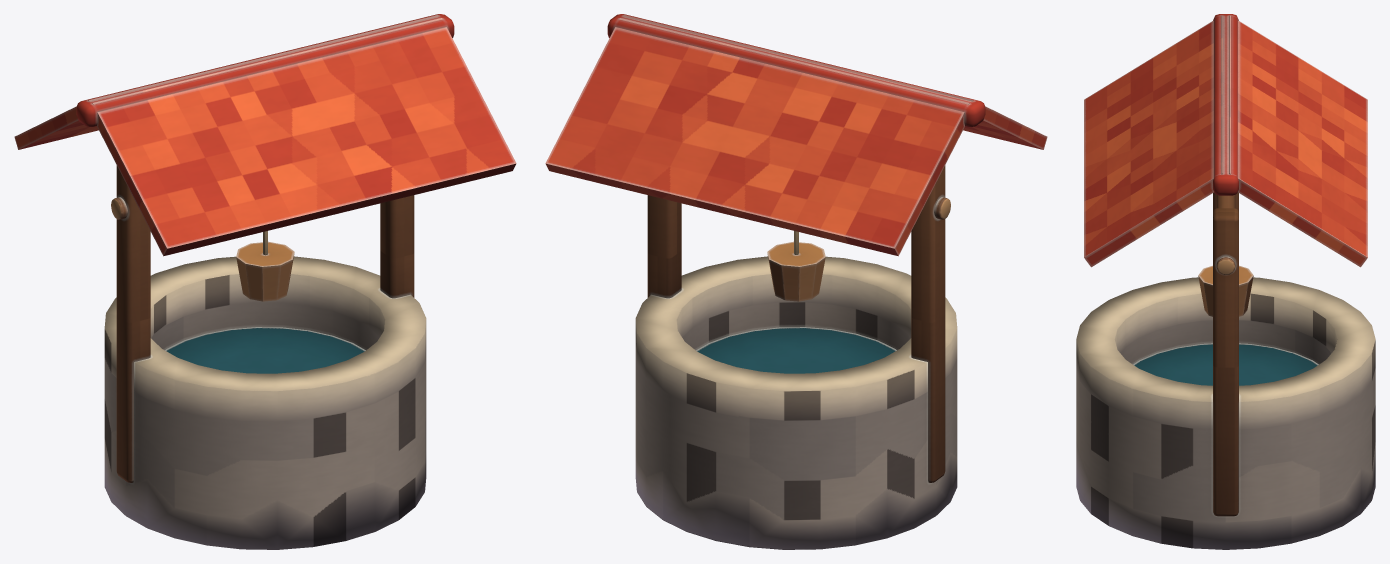
The model's file is stone_well.glb.
3 renders of one model, left to right at view 1: azimuth 30°, elevation 25°; view 2: azimuth 150°, elevation 25°; view 3: azimuth 270°, elevation 25°, orthographic. The views are drawn at different scales.
Parts seen in each view (by area): view 1: stone_well; view 2: stone_well; view 3: stone_well.
Part boxes in pixels (box(x1,y1,x2,y2)): stone_well: box(14, 14, 516, 549); stone_well: box(545, 14, 1047, 549); stone_well: box(1076, 14, 1375, 549).
Size of the model in its own units: 1.85 by 2.02 by 1.4.
Materials: 1 (1 with a texture image).
